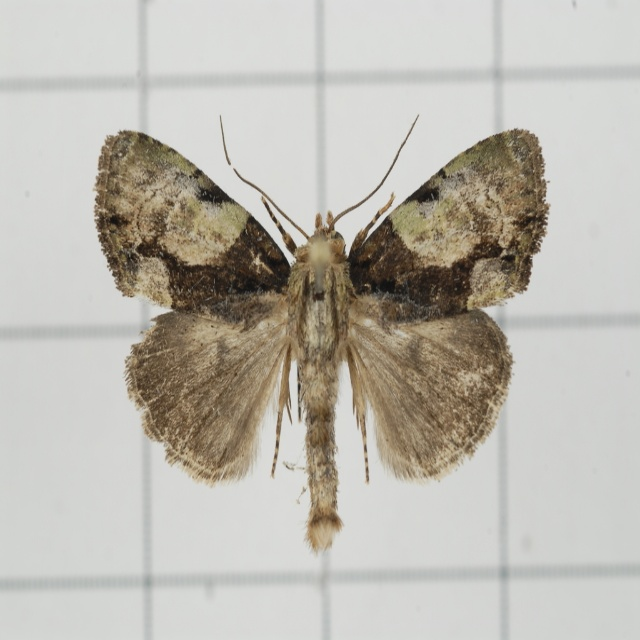Butterfly: (113, 107, 524, 556)
